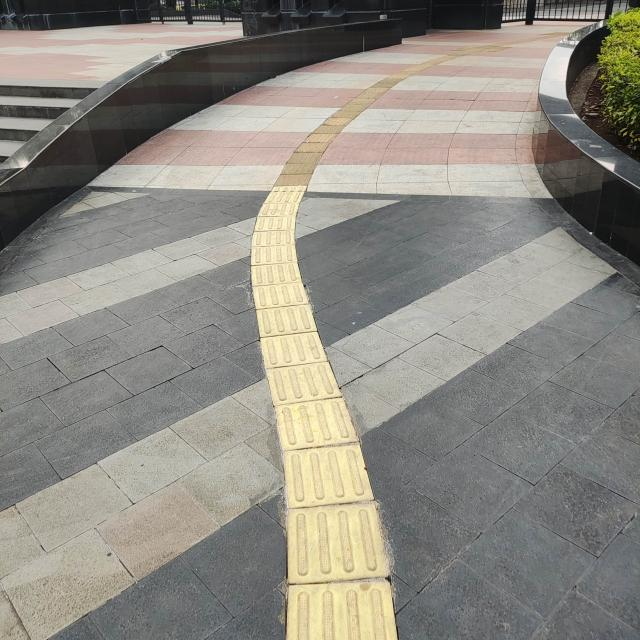lurus: (242, 236, 414, 640)
